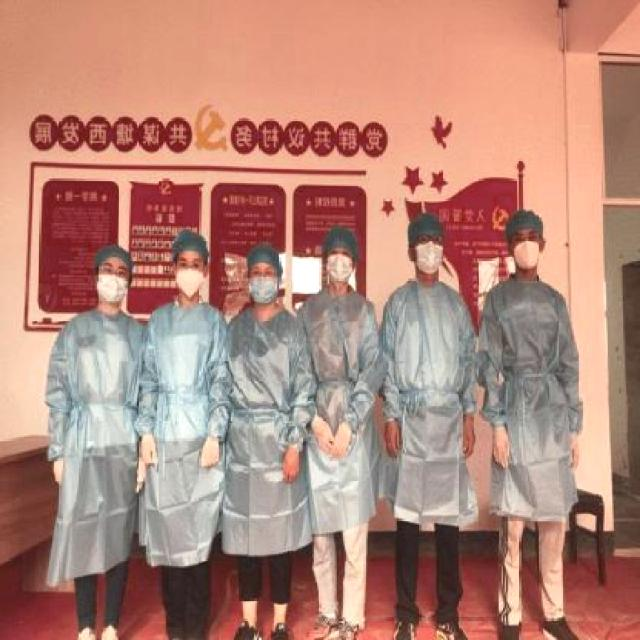face_mask: (412, 224, 446, 276), (508, 228, 543, 274), (99, 251, 128, 306), (175, 251, 208, 297), (248, 256, 278, 306), (326, 242, 356, 288)
glasses: (91, 263, 132, 283), (412, 230, 445, 245)
hand_glove: (311, 416, 334, 452), (566, 431, 585, 472), (331, 422, 352, 458), (492, 428, 510, 468), (140, 430, 158, 468), (200, 436, 220, 470), (136, 452, 150, 497), (52, 456, 66, 486)
hand_noglove: (283, 446, 302, 486), (385, 418, 403, 460), (463, 416, 479, 458)
head_nohelmet: (406, 212, 452, 245), (171, 228, 212, 258), (504, 206, 548, 232), (319, 226, 363, 252), (246, 244, 286, 270), (95, 248, 137, 270)
person: (485, 207, 585, 640), (384, 212, 482, 636), (42, 247, 145, 640), (142, 232, 232, 640), (299, 224, 385, 640)
